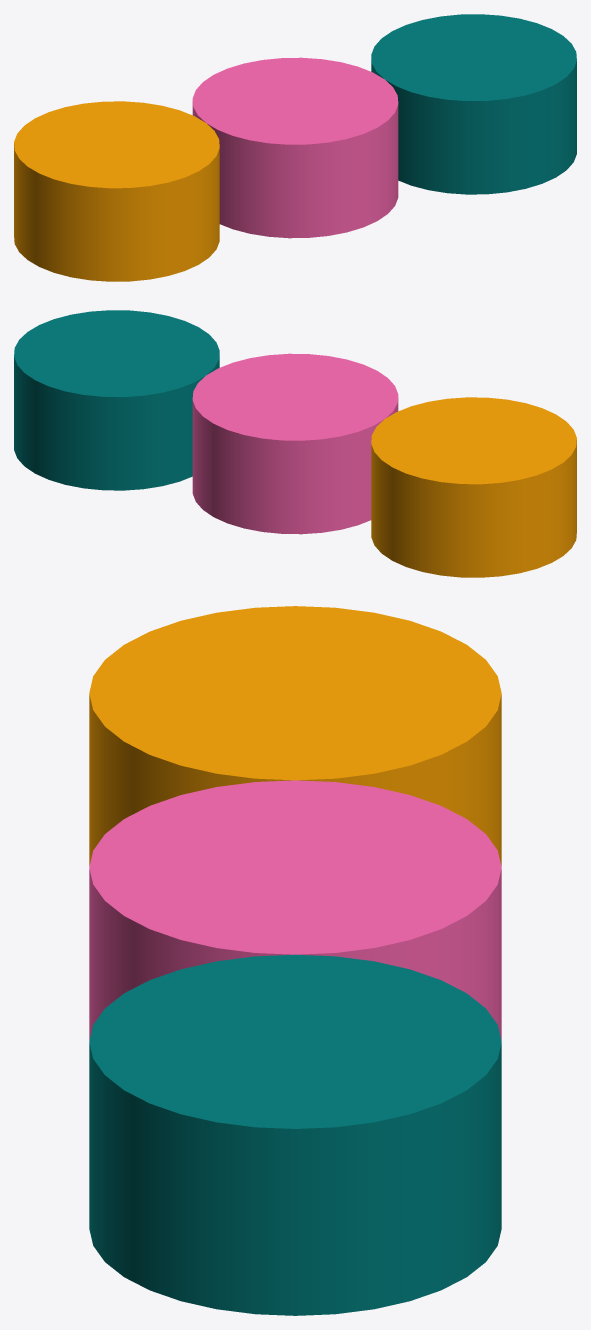
Rendered from cylinders.glb.
3 renders of one model, top to bottom at view 1: azimuth 30°, elevation 25°; view 2: azimuth 150°, elevation 25°; view 3: azimuth 270°, elevation 25°, orthographic. The views are drawn at different scales.
Bounding box in the file's own units: 6 × 1 × 2.
